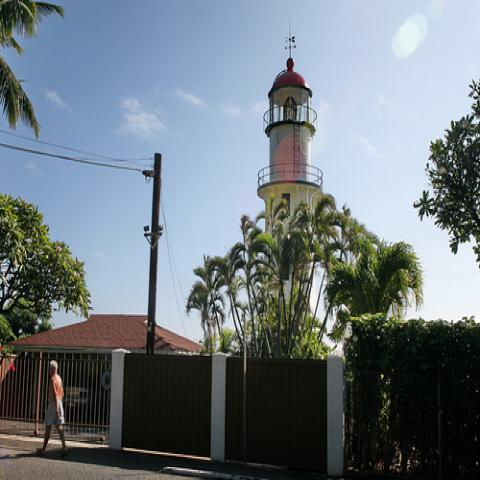car: (60, 374, 90, 408)
